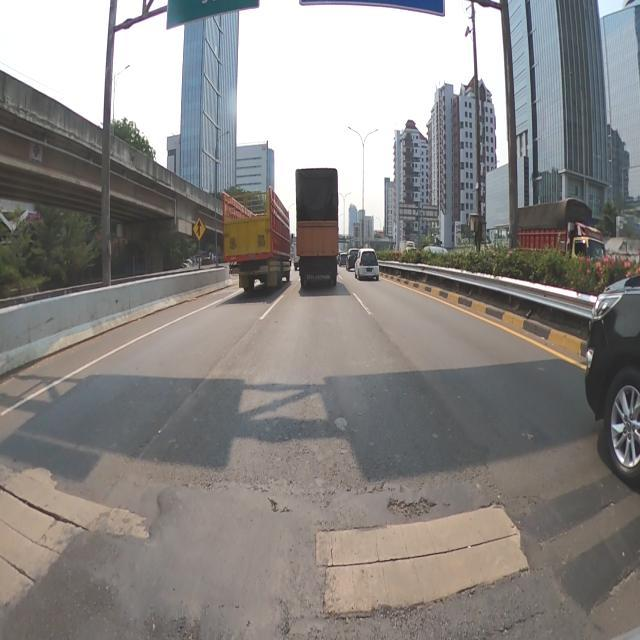Buraco: (383, 495, 440, 521)
